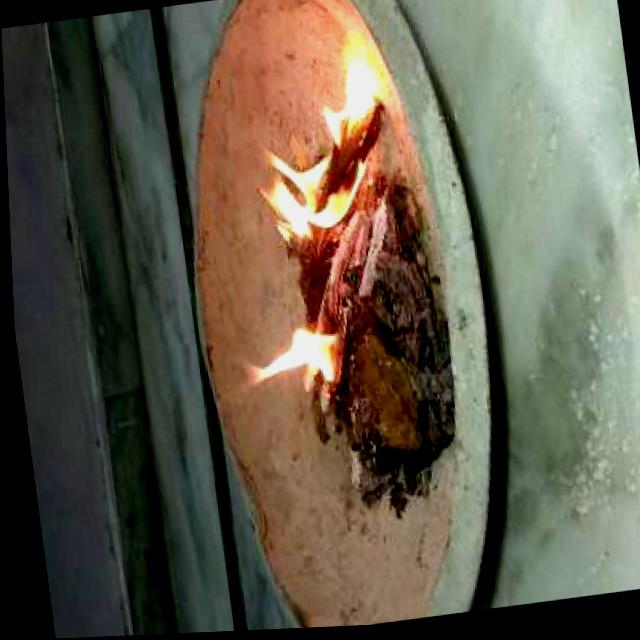helmet: (237, 35, 397, 251), (220, 310, 350, 412)
